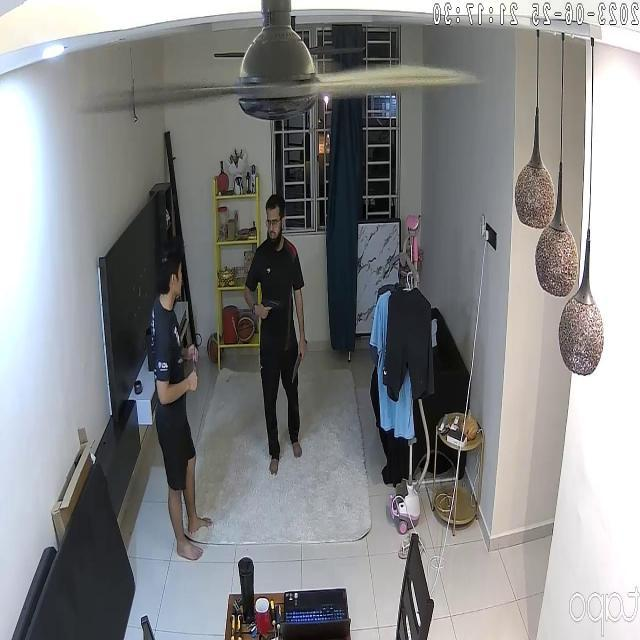Knife: (280, 343, 318, 391)
